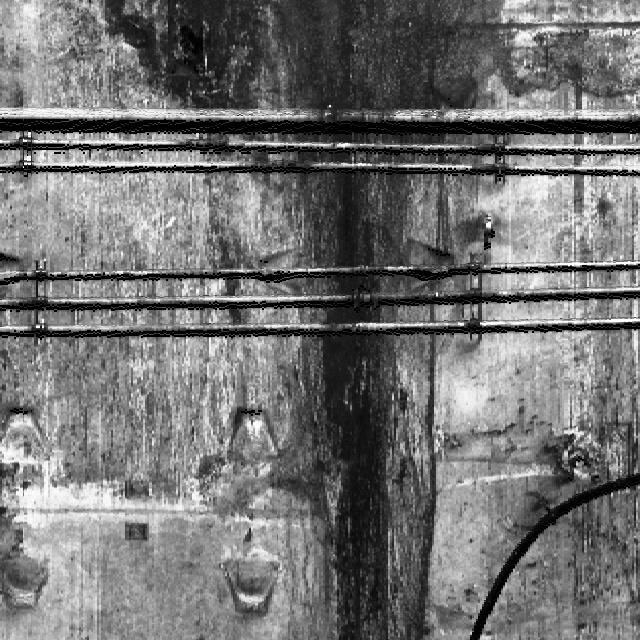leakage: (94, 0, 510, 639)
